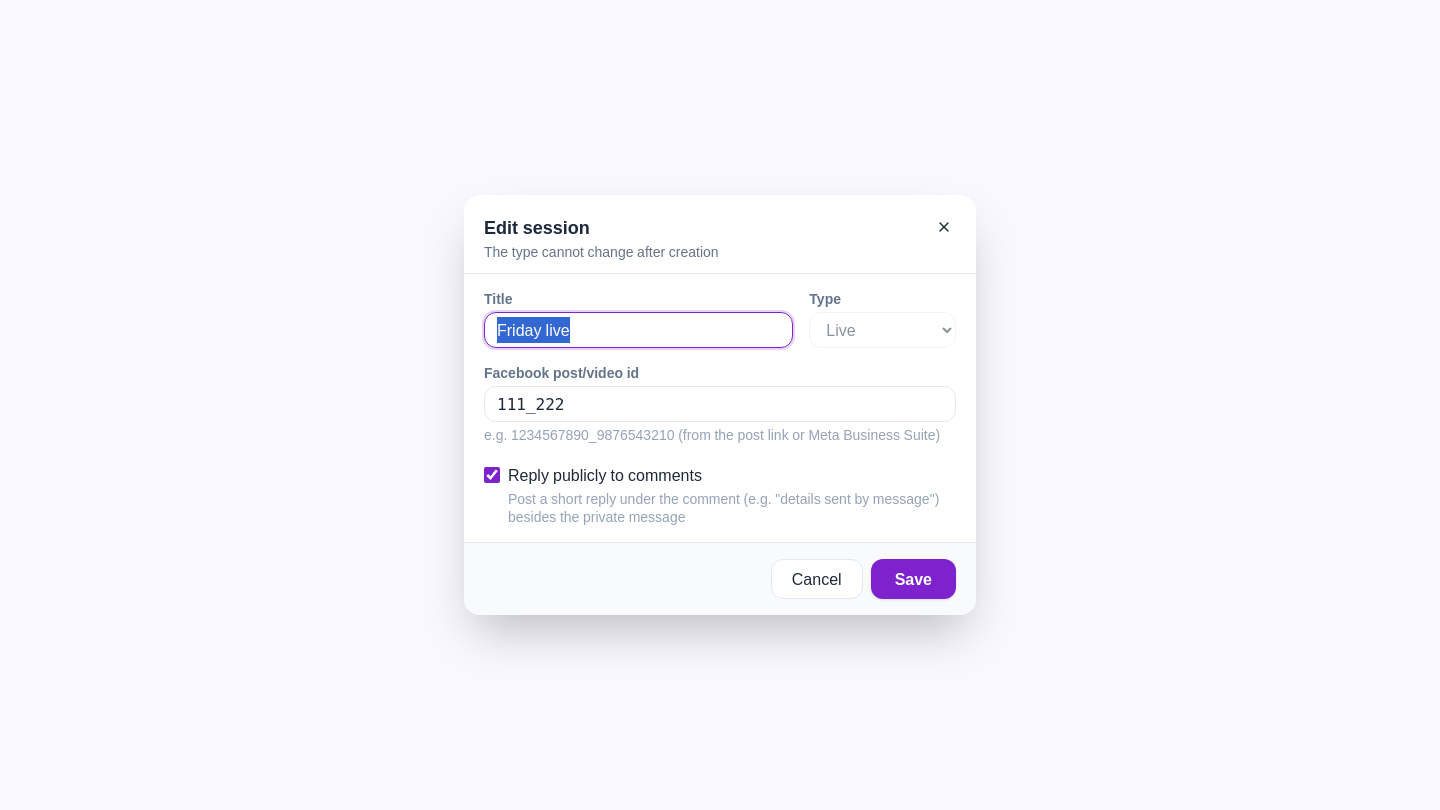
it: SessionFormDialog › API error: ສະແດງ alert ແລະ ບໍ່ປິດ
Click the button "Save".
click(913, 579)  # box [871,559,956,599]
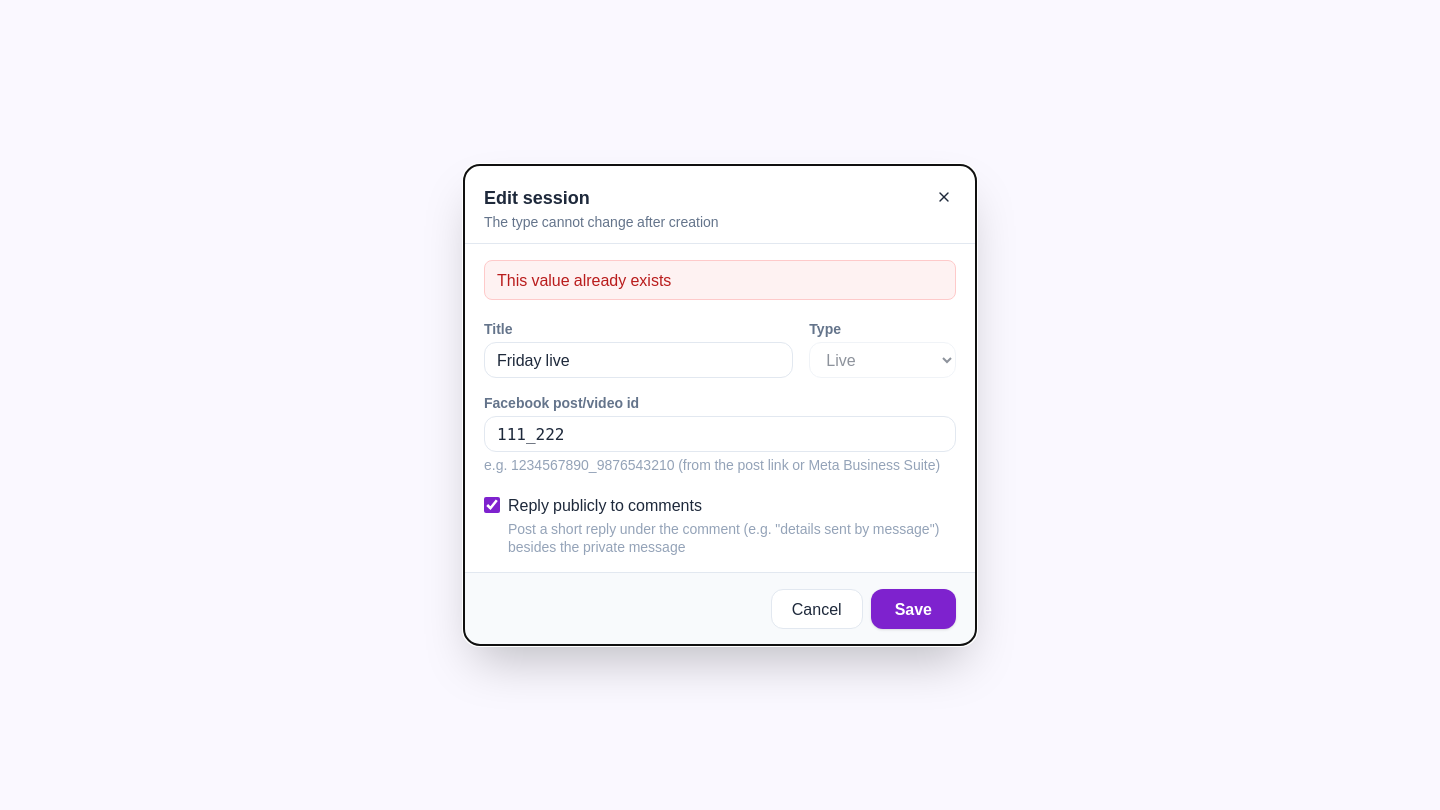
Now the message "This value already exists" is shown, box [484,260,956,300]
